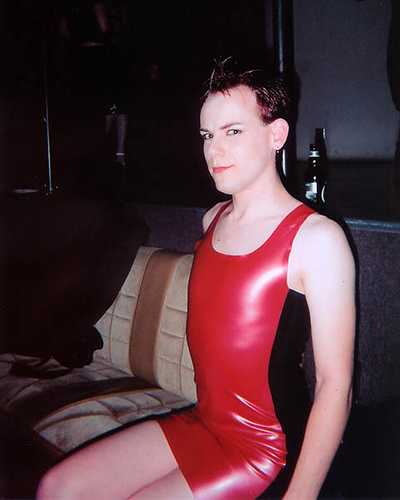without_mask: (192, 88, 297, 203)
